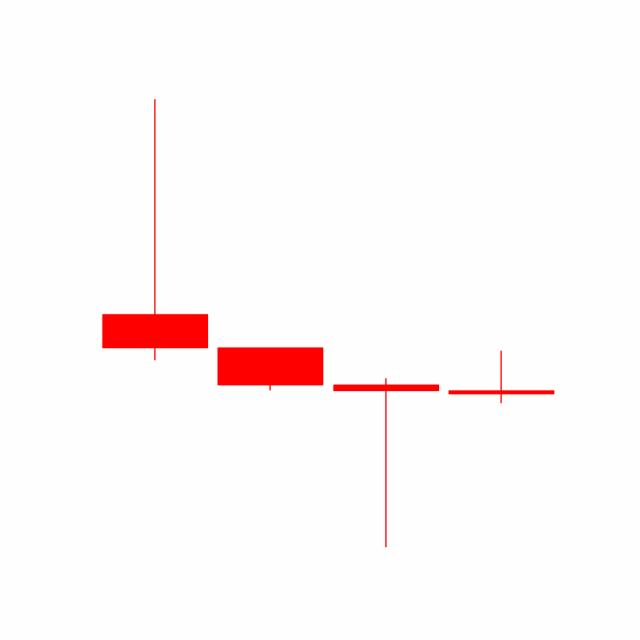Gravestone Doji: (443, 349, 559, 403)
